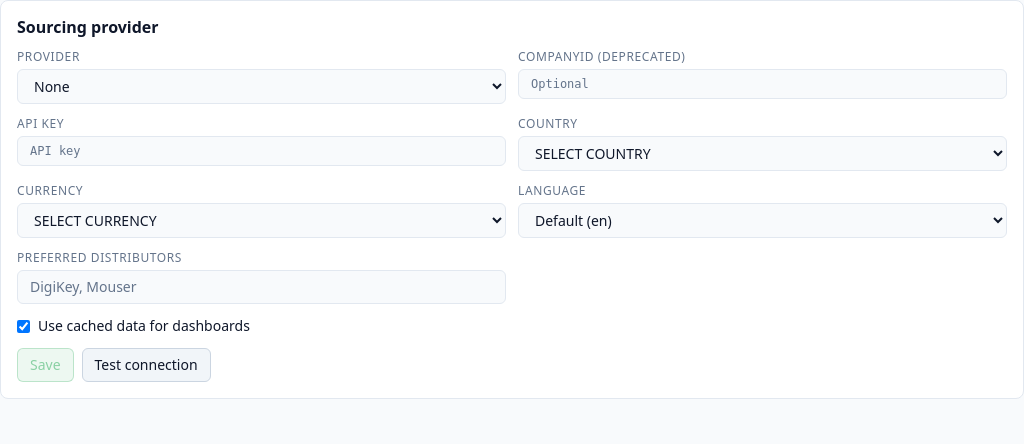
SourcingCard › surfaces test-connection failure message on auth error
What coordinates should you click on to do the following:
click the button "Test connection"
I would click on:
 (146, 365)
Its box is [82, 348, 211, 382].
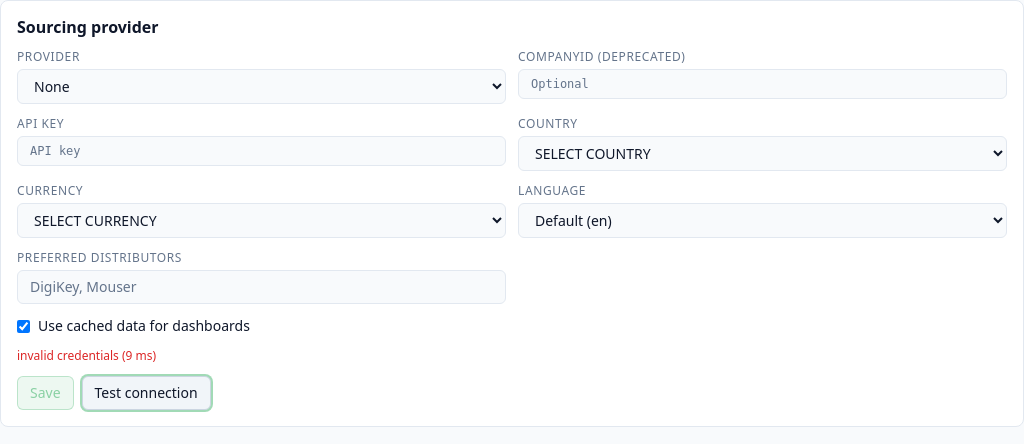
Result: the message reads "invalid credentials (9 ms)" at [17, 347, 156, 364]
